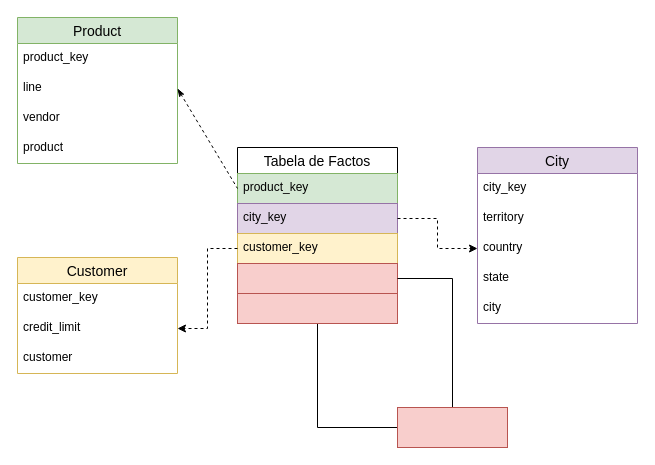
Image size: 655x465. Some labels were removed from this diagram. The shapes that lost their labels are listed below. From the top down, each one's centre as x and y in pixels, then its label:
At pixel 317 278: "Quantity".
At pixel 317 308: "Sales".
At pixel 452 427: "Measures".
